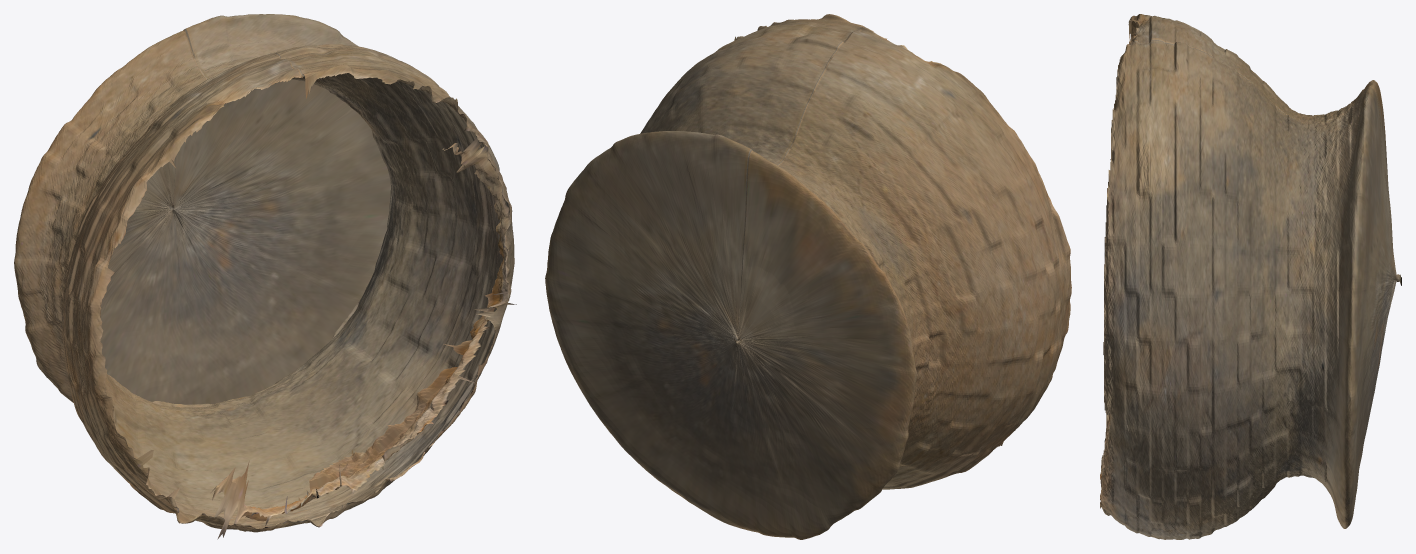
The picture shows the model from 3 angles, left to right: view 1: azimuth 30°, elevation 25°; view 2: azimuth 150°, elevation 25°; view 3: azimuth 270°, elevation 25°; orthographic projection. The views are drawn at different scales.
Parts seen in each view (by area): view 1: geometry_0; view 2: geometry_0; view 3: geometry_0.
Boxes of the visible parts, x1,y1,x2,y2 form: geometry_0: [14, 14, 516, 539]; geometry_0: [545, 14, 1071, 539]; geometry_0: [1100, 14, 1401, 539].
Size of the model in its own units: 1.96 by 1.96 by 1.13.
1 material, 1 textured.
